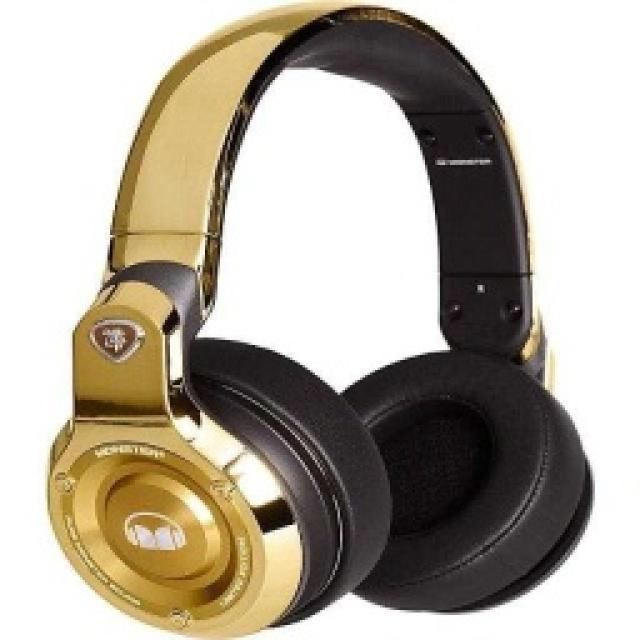headphones: (45, 0, 593, 638)
